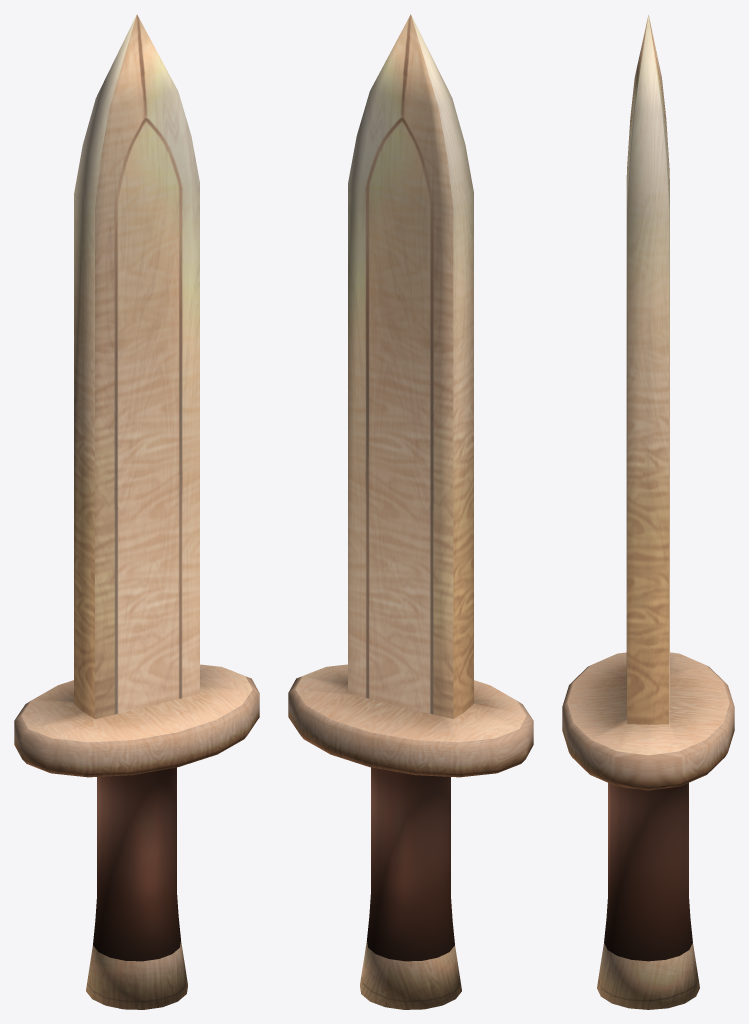
File: sword_wooden sword.FBX
3 renders of one model, left to right at view 1: azimuth 30°, elevation 25°; view 2: azimuth 150°, elevation 25°; view 3: azimuth 270°, elevation 25°, orthographic.
Visible parts, largest first — view 1: Cylinder001; view 2: Cylinder001; view 3: Cylinder001.
Boxes of the visible parts, bbox=[...] form: Cylinder001: bbox=[14, 14, 259, 1009]; Cylinder001: bbox=[288, 14, 533, 1009]; Cylinder001: bbox=[562, 14, 734, 1009].
Bounding box in the file's own units: 35.26 × 143 × 22.88.
1 material, 1 textured.
